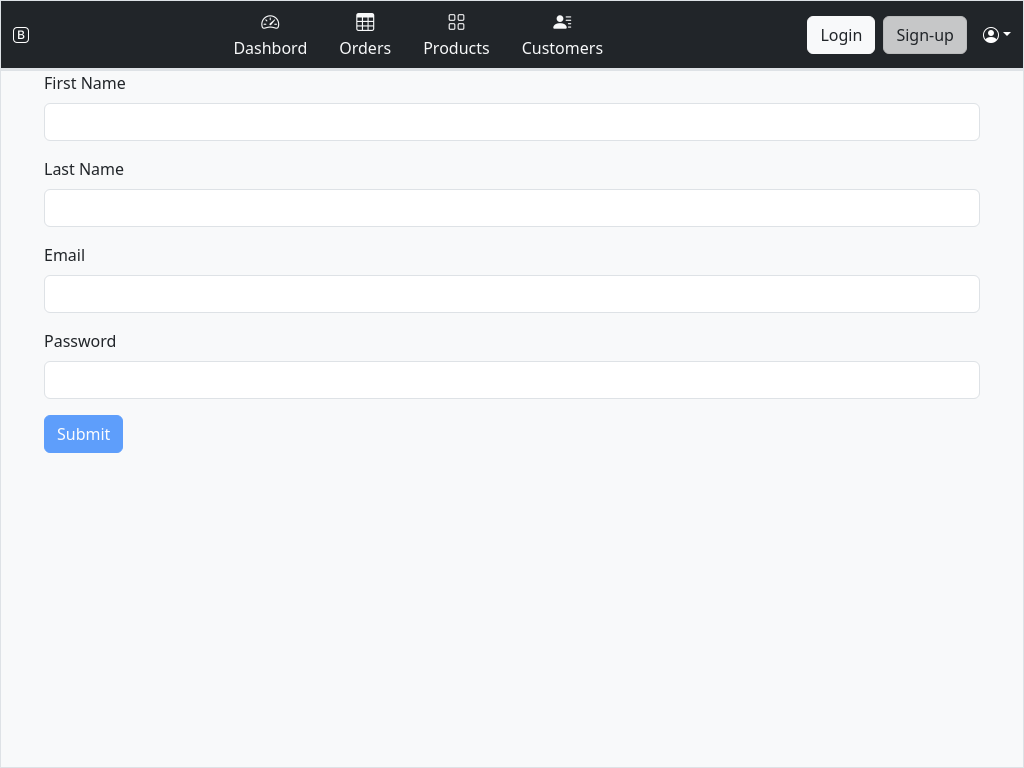
Scenario: Page Sign Up › should show validation messages for invalid inputs
The image size is (1024, 768).
Focus the field named "firstname" at (512, 122), box [44,103,980,141]
Leave the field named "firstname", box [44,103,980,141]
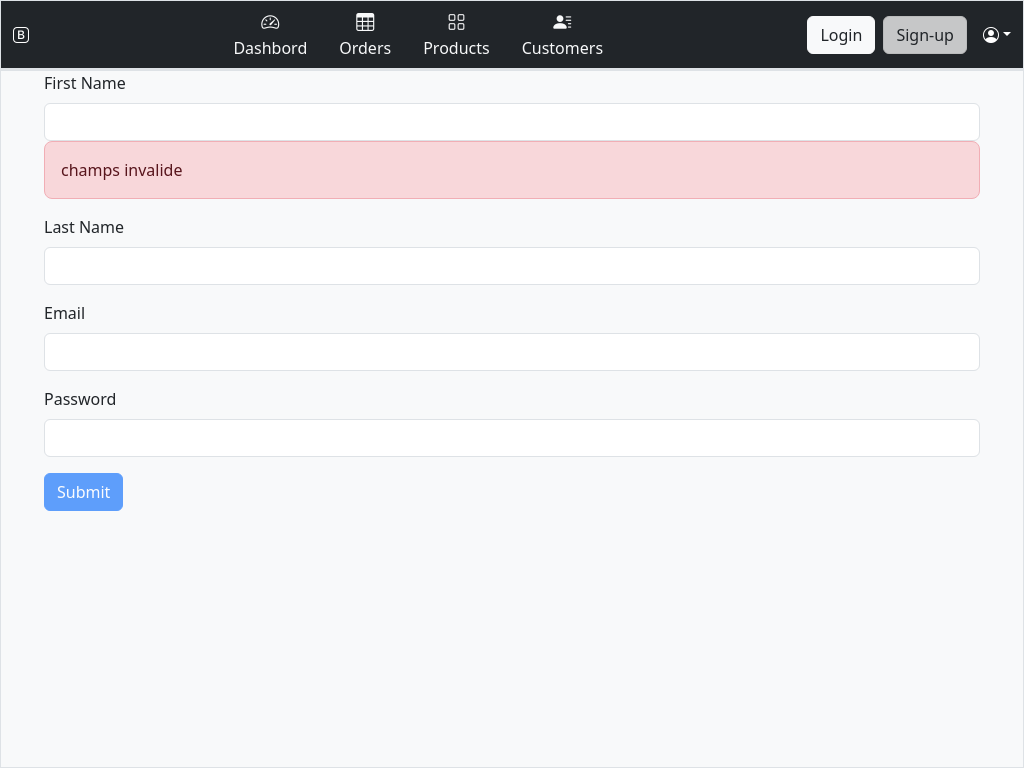
Focus the field named "lastName" at (512, 266), box [44,247,980,285]
Leave the field named "lastName", box [44,247,980,285]
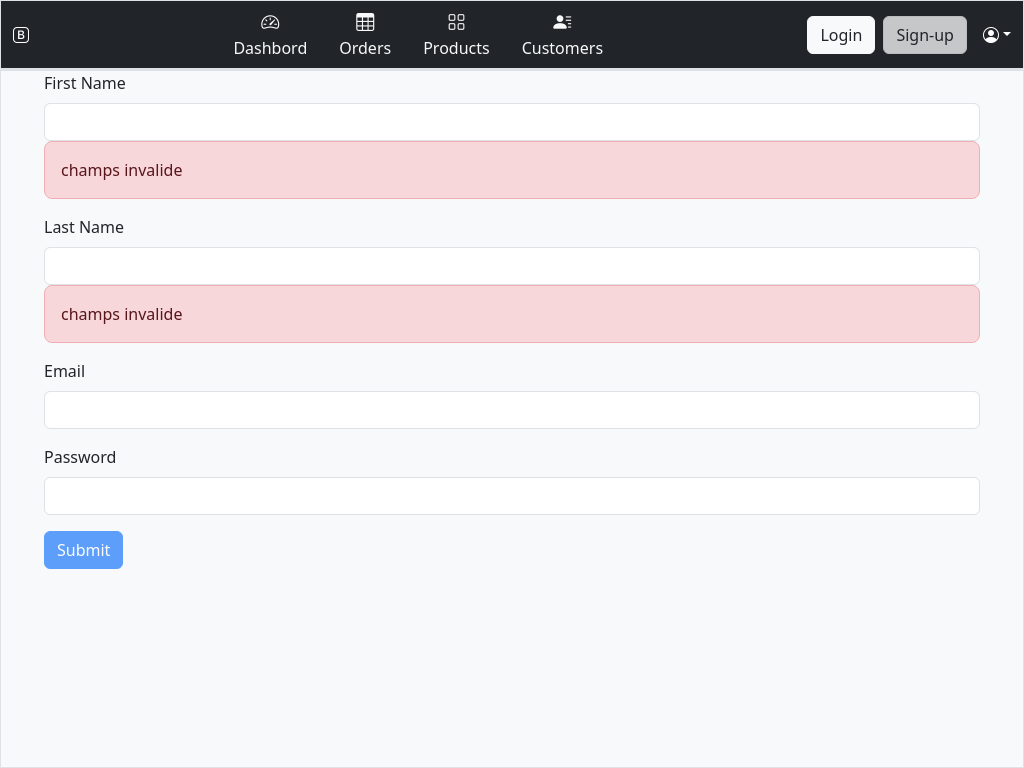
Focus the field named "email" at (512, 410), box [44,391,980,429]
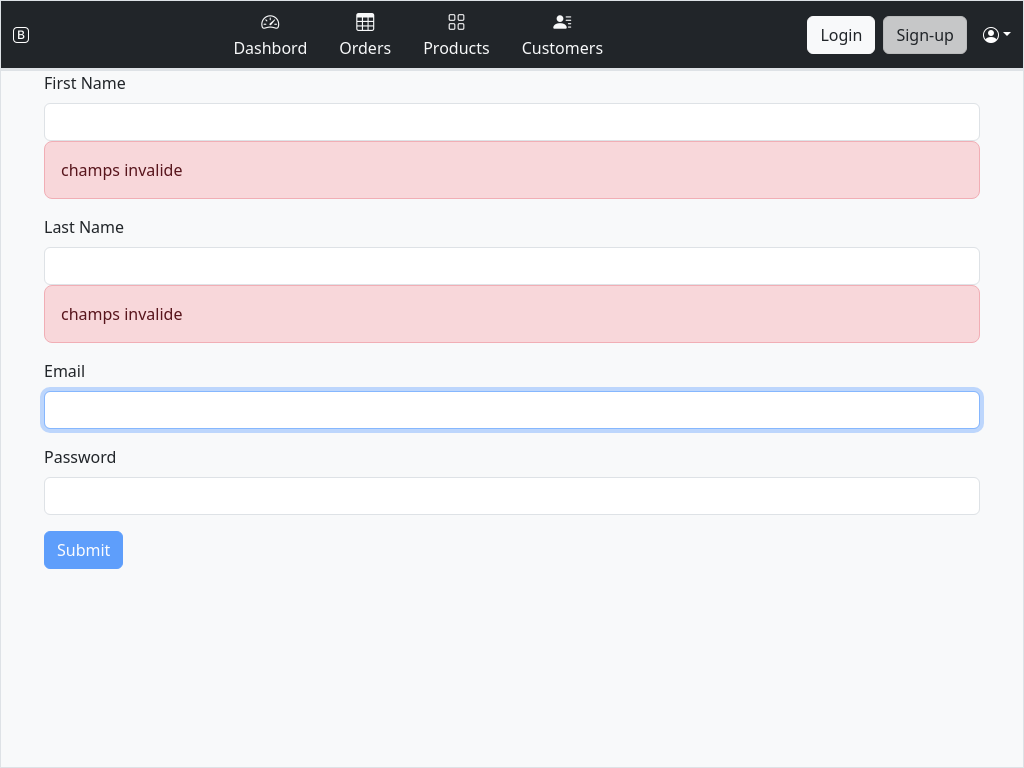
Leave the field named "email", box [44,391,980,429]
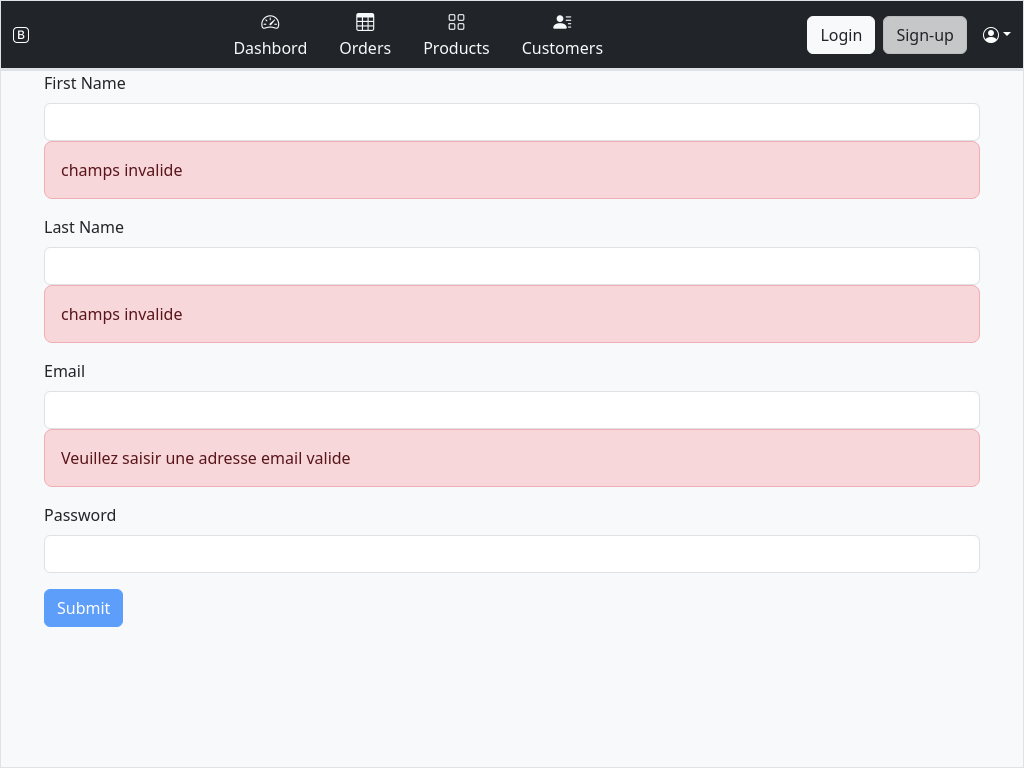
Focus the field named "password" at (512, 554), box [44,535,980,573]
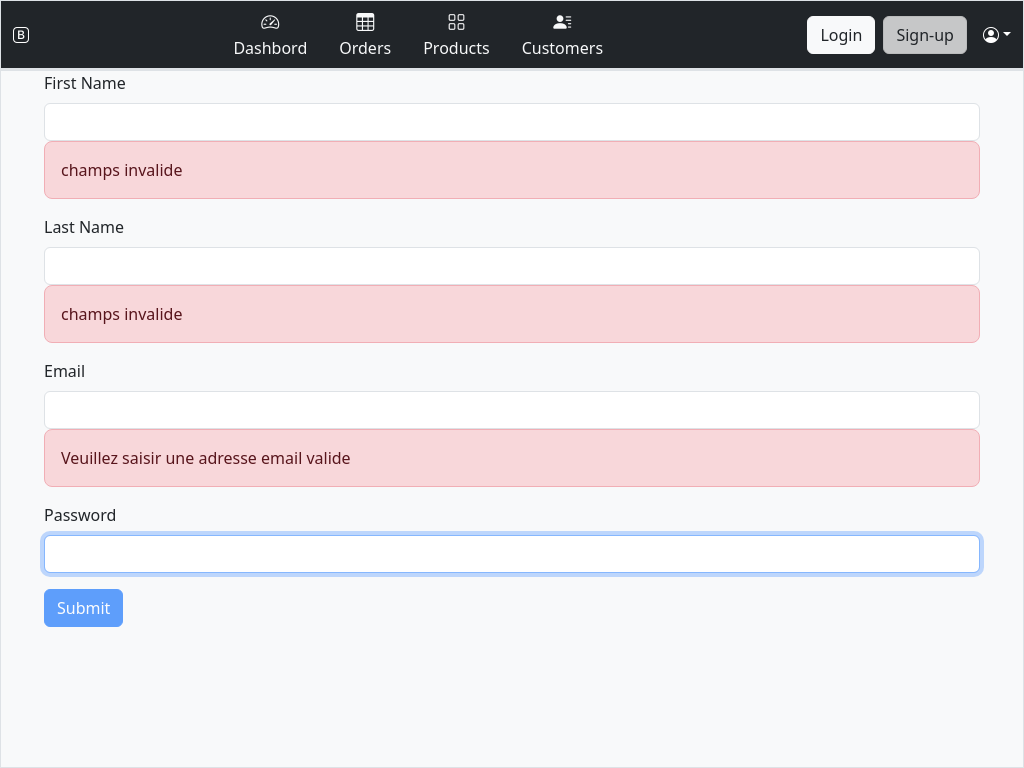
Leave the field named "password", box [44,535,980,573]
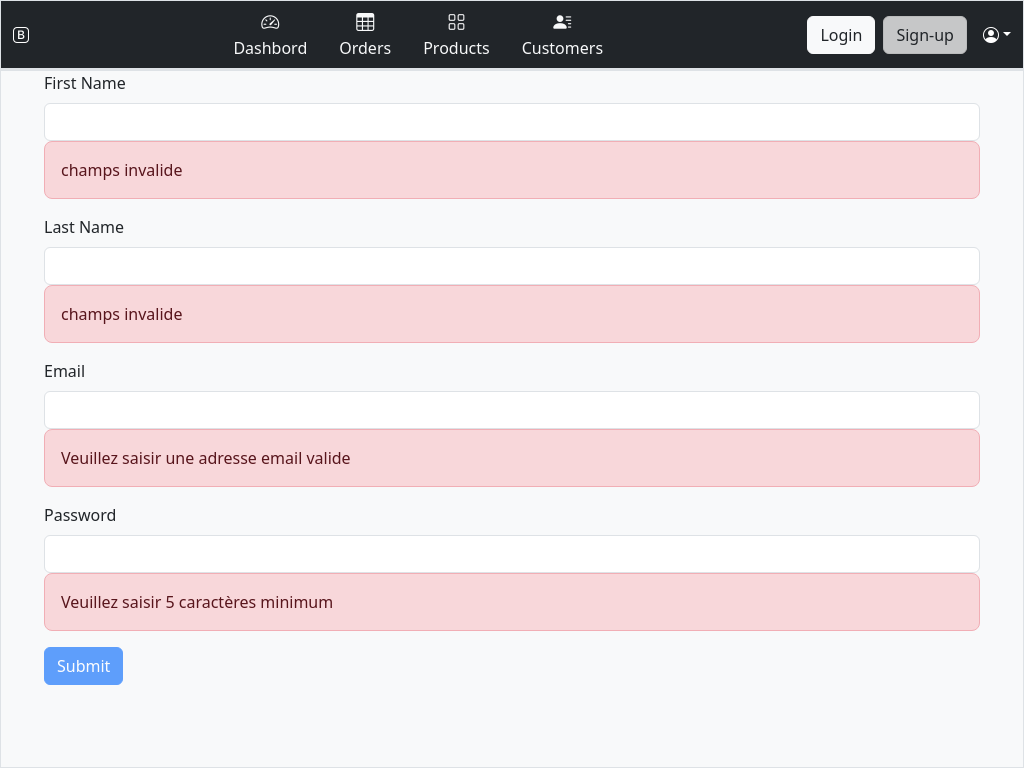
Now the text "champs invalide" below "First Name" is shown, box [61,159,182,181]
Now the text "Veuillez saisir une adresse email valide" is shown, box [44,429,980,487]
Now the text "Veuillez saisir 5 caractères minimum" is shown, box [44,573,980,631]
